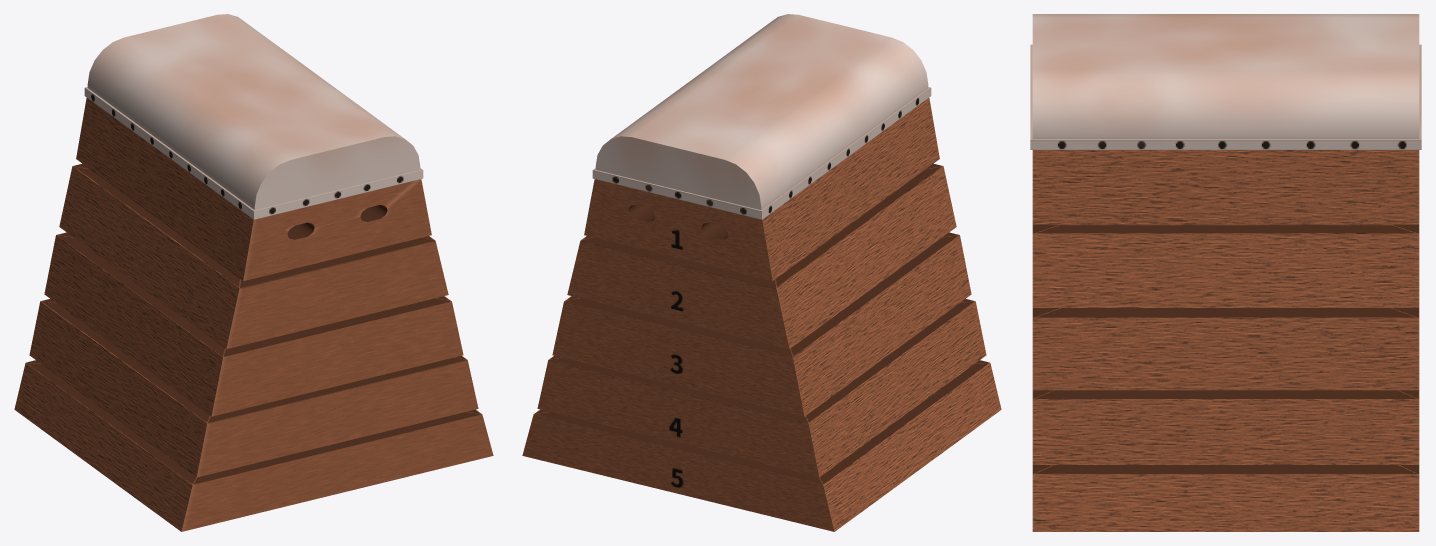
The model's file is Tobibako.fbx.
The picture shows the model from 3 angles, left to right: view 1: azimuth 30°, elevation 25°; view 2: azimuth 150°, elevation 25°; view 3: azimuth 270°, elevation 25°; orthographic projection. The views are drawn at different scales.
Parts seen in each view (by area): view 1: Tobibako; view 2: Tobibako; view 3: Tobibako.
Boxes of the visible parts, x1,y1,x2,y2 form: Tobibako: (14,14,493,531); Tobibako: (522,14,1001,531); Tobibako: (1030,14,1421,531).
Size of the model in its own units: 377 by 399 by 354.
